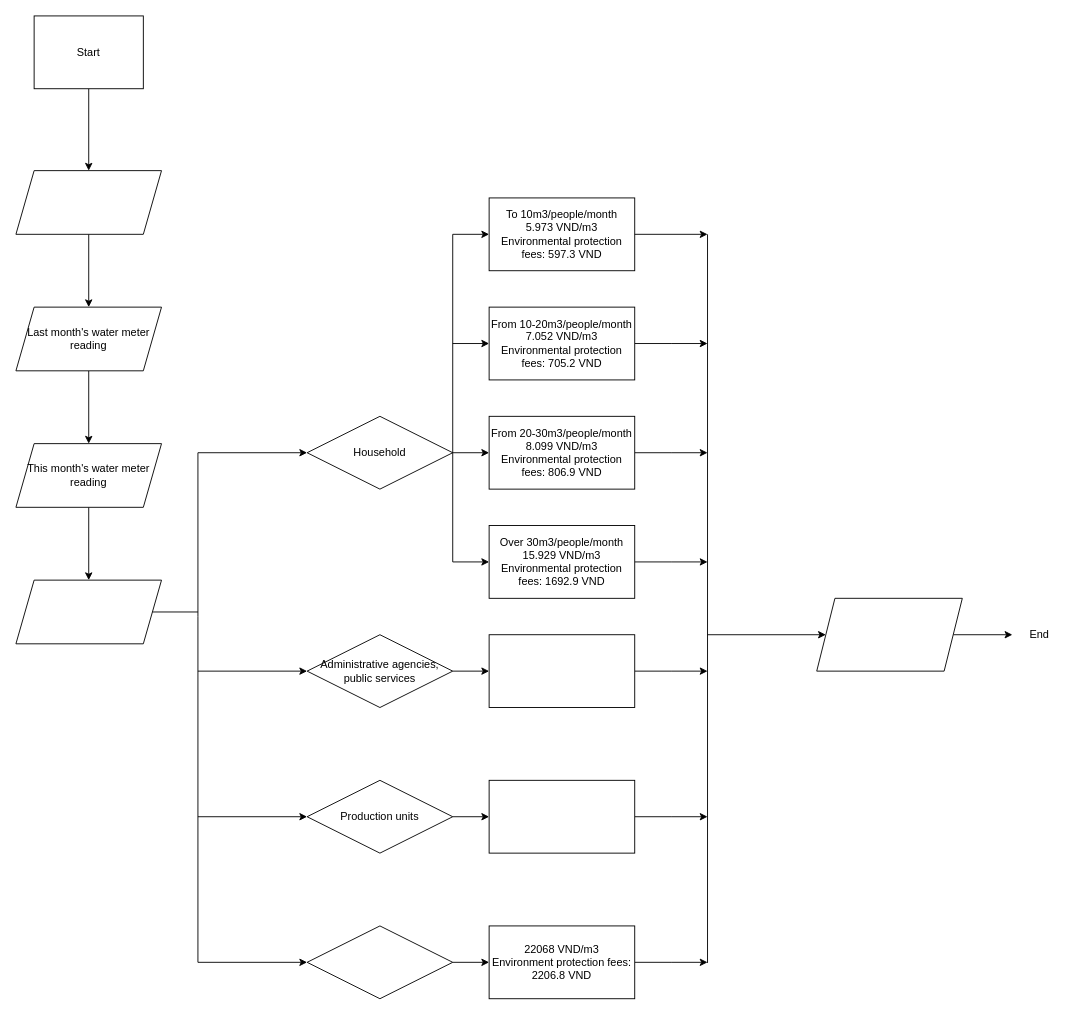
The diagram is 1083 pixels wide and 1015 high, and some of its shapes have lost their labels. The centre of each missing label's shape, as x and y in pixels:
11615 VND/m3 Environment protection fees: 1161.5 VND: point 561,816
9956 VND/m3 Environment protection fees: 995.5 VND: point 561,671
Business services: point 379,962
Customer type: point 88,611
Customer's name: point 88,202
Prtint waterbill: point 889,634
